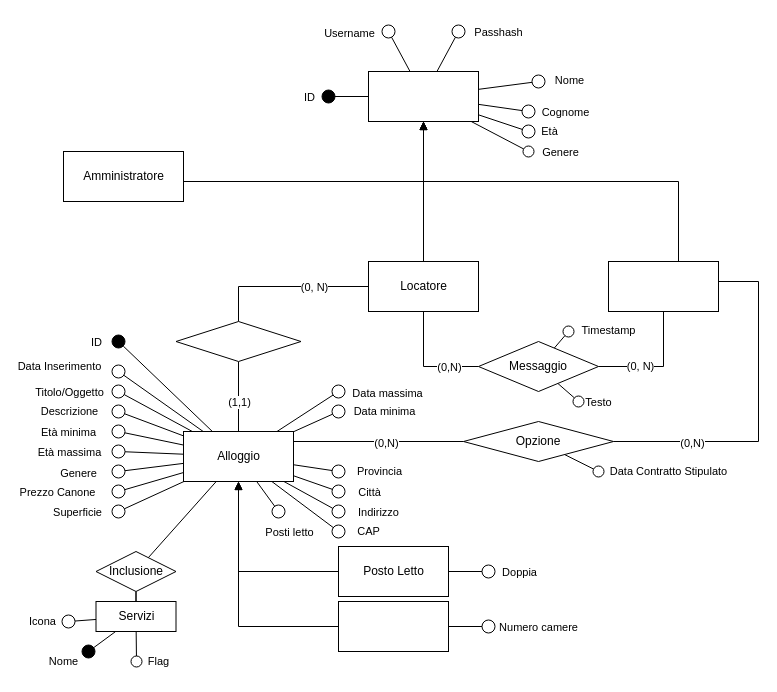
This 777x692 diagram has some shape labels left out. Each missing label, with the centre of its shape:
Appartamento: the point at 393,626
Inserzione: the point at 238,341
Locatario: the point at 663,286
Utente: the point at 423,96
